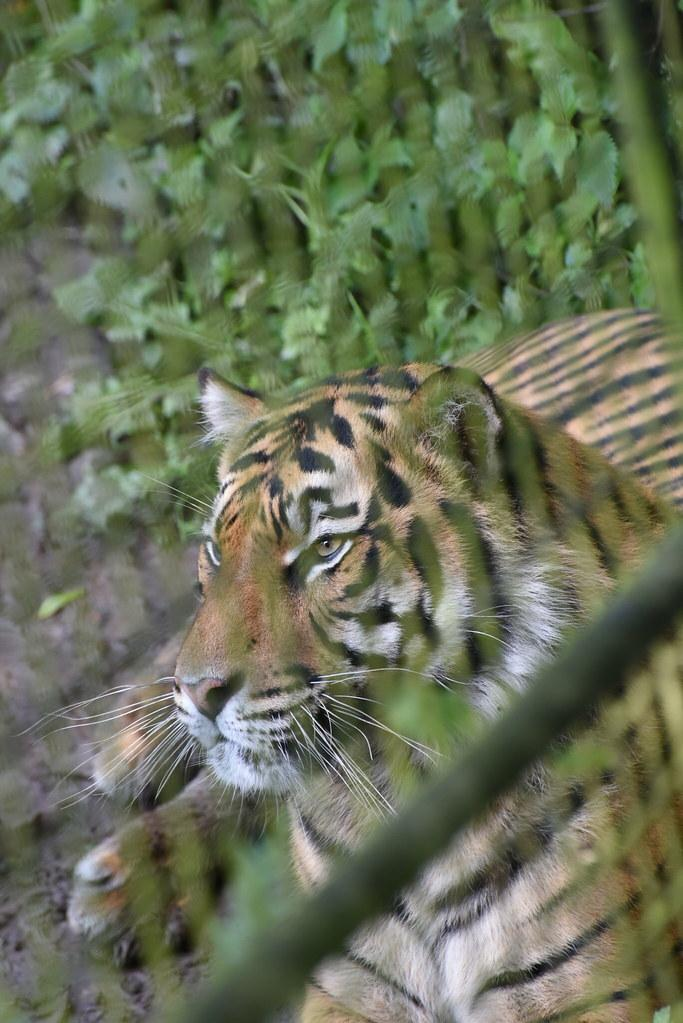tiger: (18, 313, 682, 1021)
